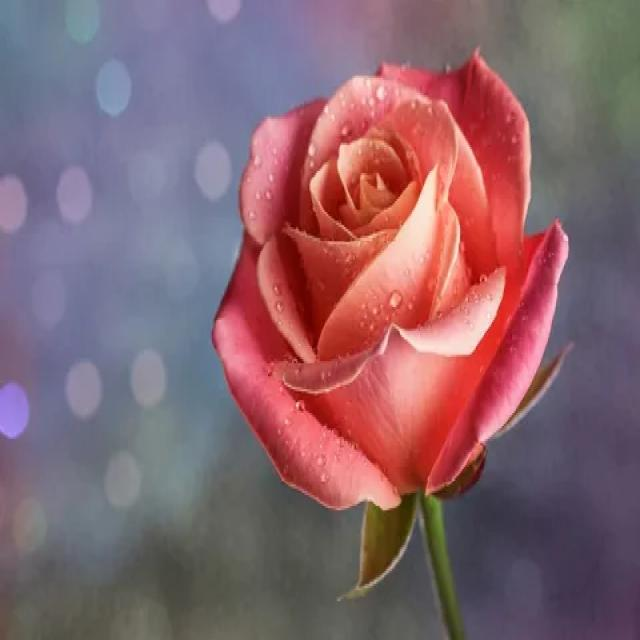rose: (207, 25, 573, 520)
